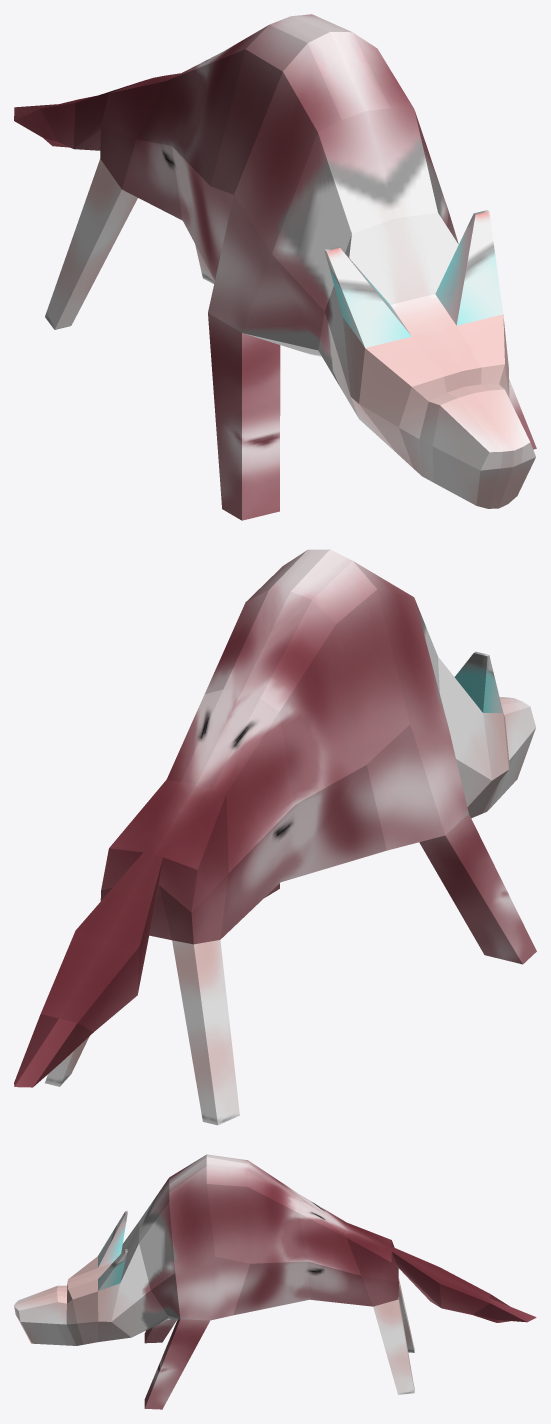
Rendered from Asset_Enemy_Wolf.fbx.
The picture shows the model from 3 angles, top to bottom: view 1: azimuth 30°, elevation 25°; view 2: azimuth 150°, elevation 25°; view 3: azimuth 270°, elevation 25°; orthographic projection. The views are drawn at different scales.
Parts seen in each view (by area): view 1: wolf_body; view 2: wolf_body; view 3: wolf_body.
Boxes of the visible parts, x1,y1,x2,y2 form: wolf_body: (14, 14, 536, 520); wolf_body: (14, 549, 536, 1125); wolf_body: (14, 1154, 536, 1409).
Size of the model in its own units: 21.1 by 27.43 by 60.74.
